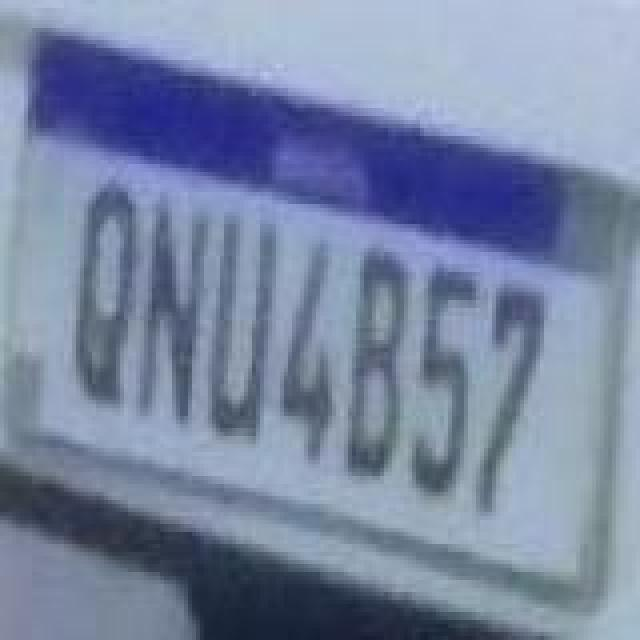4: (276, 242, 340, 462)
5: (406, 262, 482, 498)
7: (474, 282, 550, 518)
B: (342, 238, 410, 482)
N: (138, 186, 214, 422)
Q: (70, 180, 138, 412)
U: (208, 210, 280, 446)
